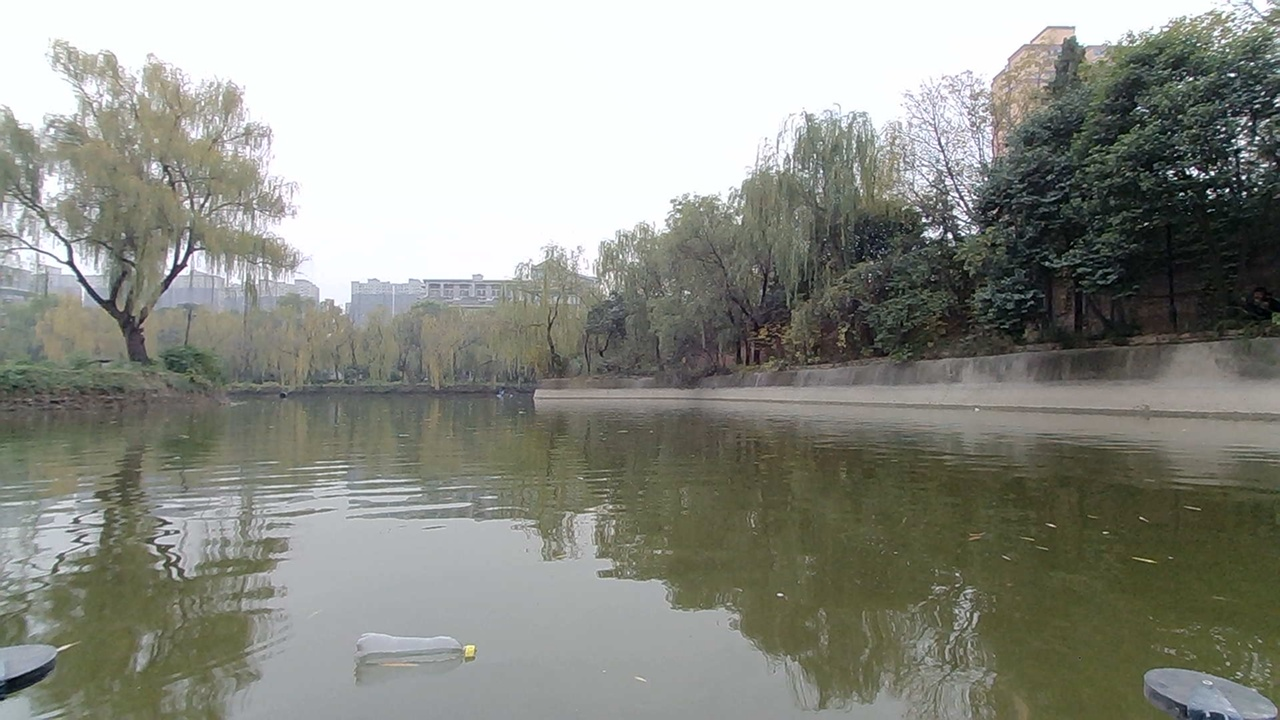bottle: (341, 625, 470, 689)
